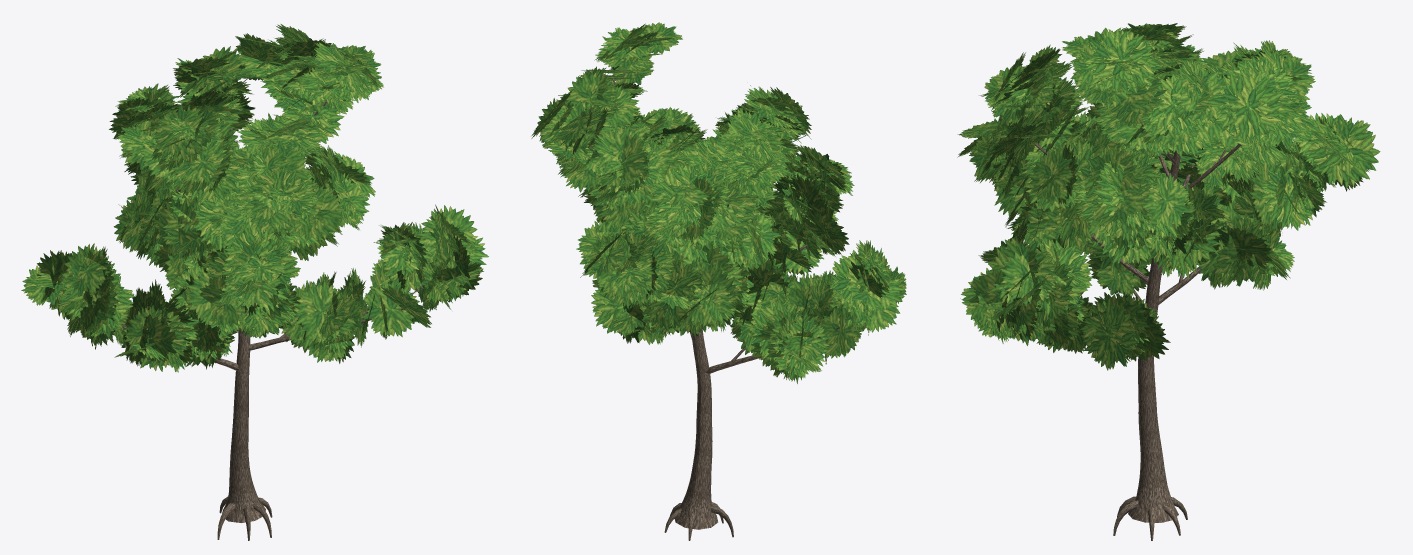
The model's file is arvore_bl_c.glb.
3 renders of one model, left to right at view 1: azimuth 30°, elevation 25°; view 2: azimuth 150°, elevation 25°; view 3: azimuth 270°, elevation 25°, orthographic. The views are drawn at different scales.
Visible parts, largest first — view 1: arvore_bl_c; view 2: arvore_bl_c; view 3: arvore_bl_c.
Part boxes in pixels (bbox=[...]): arvore_bl_c: bbox=[21, 24, 488, 540]; arvore_bl_c: bbox=[531, 22, 906, 540]; arvore_bl_c: bbox=[957, 23, 1380, 540].
Size of the model in its own units: 9.33 by 10.91 by 8.22.
Materials: 2 (2 with a texture image).
